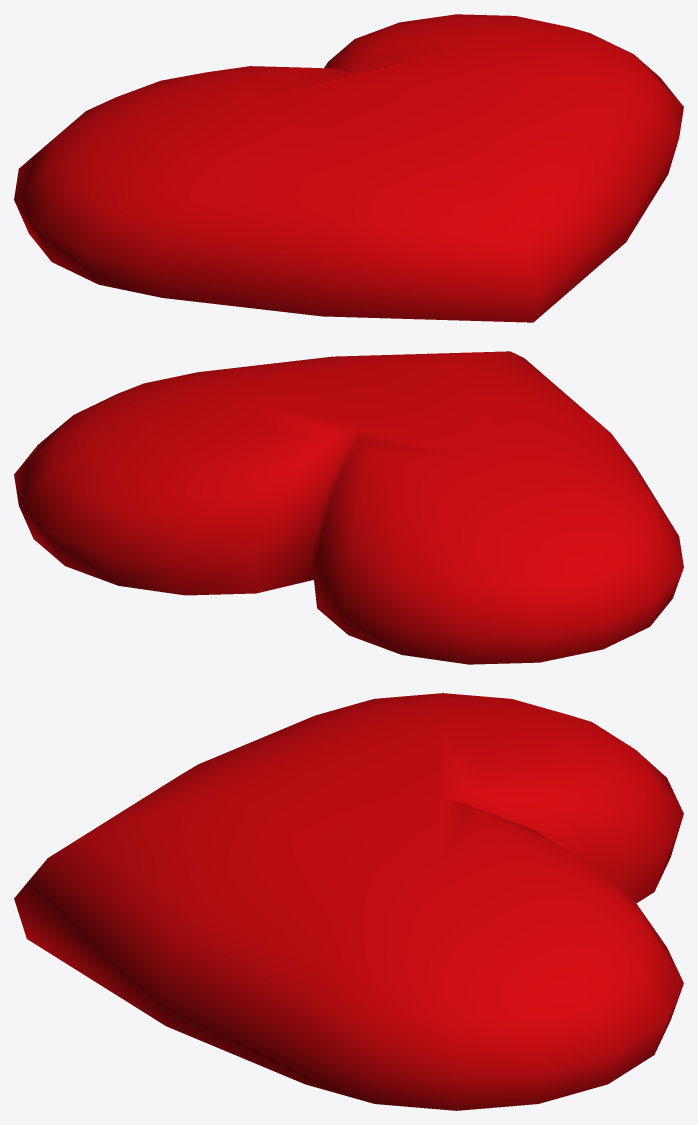
The model's file is heartexit.fbx.
The picture shows the model from 3 angles, top to bottom: view 1: azimuth 30°, elevation 25°; view 2: azimuth 150°, elevation 25°; view 3: azimuth 270°, elevation 25°; orthographic projection. The views are drawn at different scales.
Visible parts, largest first — view 1: Heart; view 2: Heart; view 3: Heart.
Part boxes in pixels (<box>): Heart: <box>14,14,683,322</box>; Heart: <box>14,351,683,664</box>; Heart: <box>14,693,683,1110</box>.
Size of the model in its own units: 3.8 by 0.7 by 3.01.
